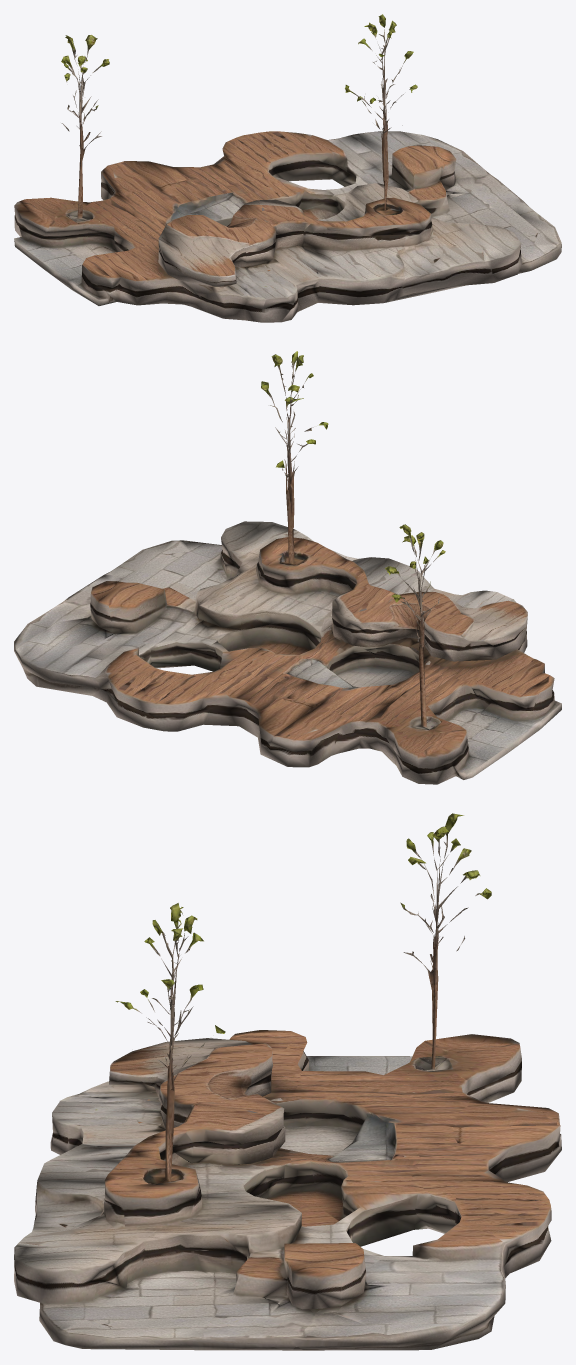
Rendered from deckisle_lod1.glb.
3 renders of one model, top to bottom at view 1: azimuth 30°, elevation 25°; view 2: azimuth 150°, elevation 25°; view 3: azimuth 270°, elevation 25°, orthographic. The views are drawn at different scales.
Visible parts, largest first — view 1: tripo_node_9644e7e2-6c19-4288-a1f3-ad5e427e5658; view 2: tripo_node_9644e7e2-6c19-4288-a1f3-ad5e427e5658; view 3: tripo_node_9644e7e2-6c19-4288-a1f3-ad5e427e5658.
Part boxes in pixels (bbox=[...]): tripo_node_9644e7e2-6c19-4288-a1f3-ad5e427e5658: bbox=[14, 14, 561, 322]; tripo_node_9644e7e2-6c19-4288-a1f3-ad5e427e5658: bbox=[14, 351, 561, 784]; tripo_node_9644e7e2-6c19-4288-a1f3-ad5e427e5658: bbox=[14, 813, 561, 1350].
Bounding box in the file's own units: 0.9088 × 0.4984 × 0.7221.
1 material, 1 textured.
